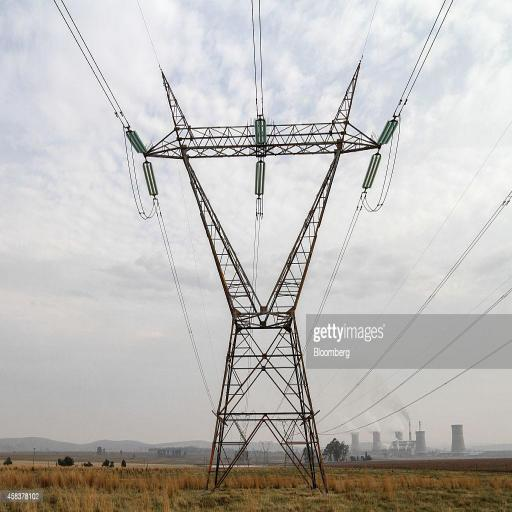wt_6: (145, 67, 383, 492)
